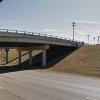Bridge: (6, 19, 75, 66)
